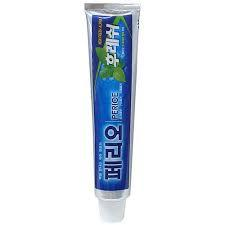toothpaste: (77, 0, 143, 225)
